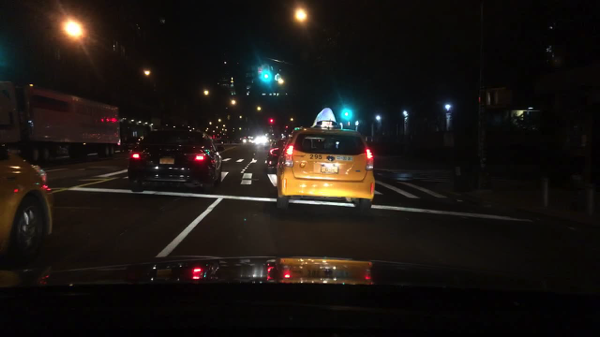car: (272, 125, 377, 217), (0, 140, 60, 270), (125, 124, 223, 197), (263, 137, 291, 176), (119, 134, 144, 155), (211, 134, 233, 147), (233, 135, 249, 146), (266, 136, 278, 145), (256, 135, 267, 144), (249, 135, 259, 144)
traffic light: (490, 87, 514, 107), (250, 64, 260, 86), (262, 66, 271, 82), (267, 114, 276, 124), (343, 109, 349, 120)
traffic sign: (441, 131, 457, 148)
truck: (0, 78, 123, 167)
